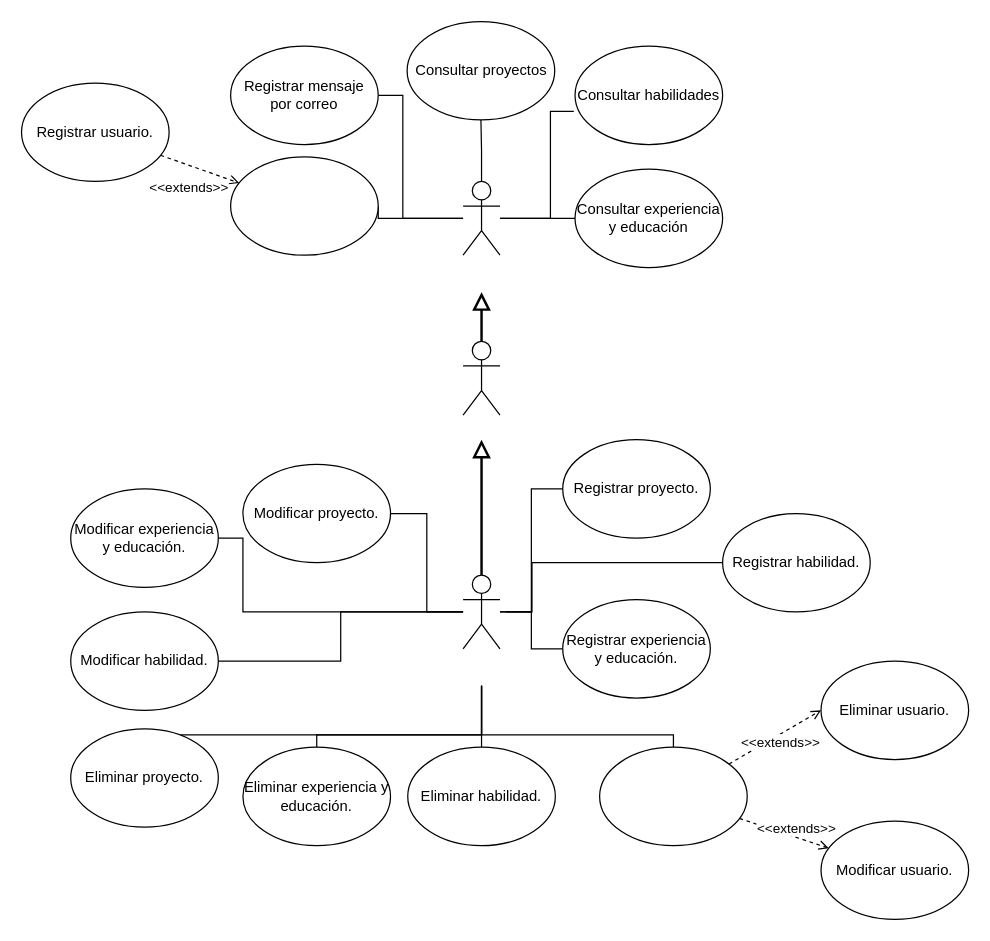
The diagram is 990 pixels wide and 941 high, and some of its shapes have lost their labels. Here are the shapes that lost their labels. From the top down, the centre of each, then its label:
At (303,205): "Iniciar sesión".
At (481,217): "No autenticado".
At (481,377): "Visitante".
At (481,611): "Administrador".
At (672,796): "Consultar usuarios.".
